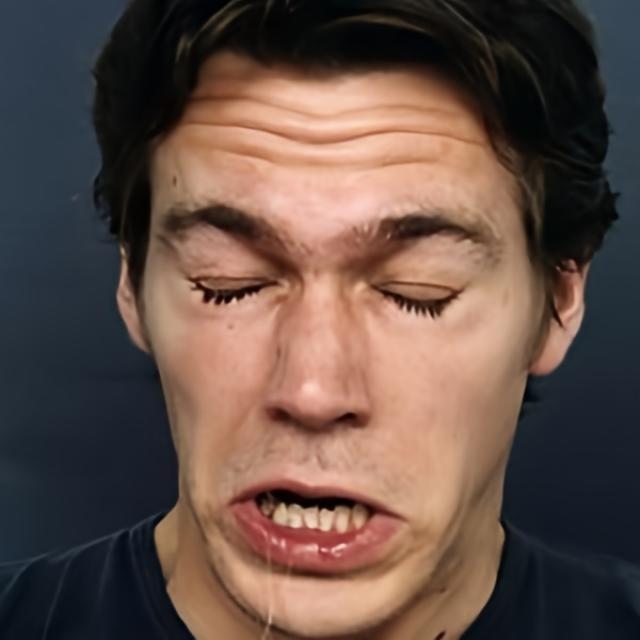disgust: (139, 36, 543, 640)
